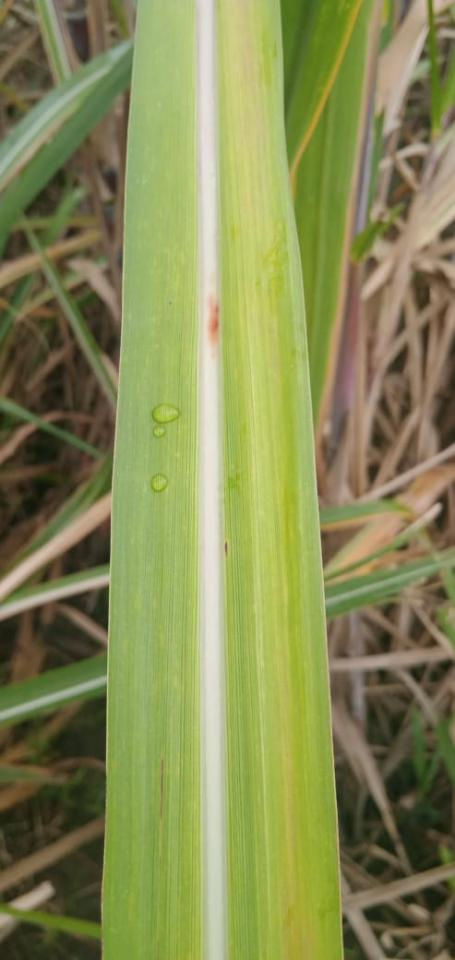RedRot: (204, 294, 222, 343)
Rust: (159, 759, 164, 820), (224, 541, 229, 557)
Yellow: (219, 0, 339, 959)
